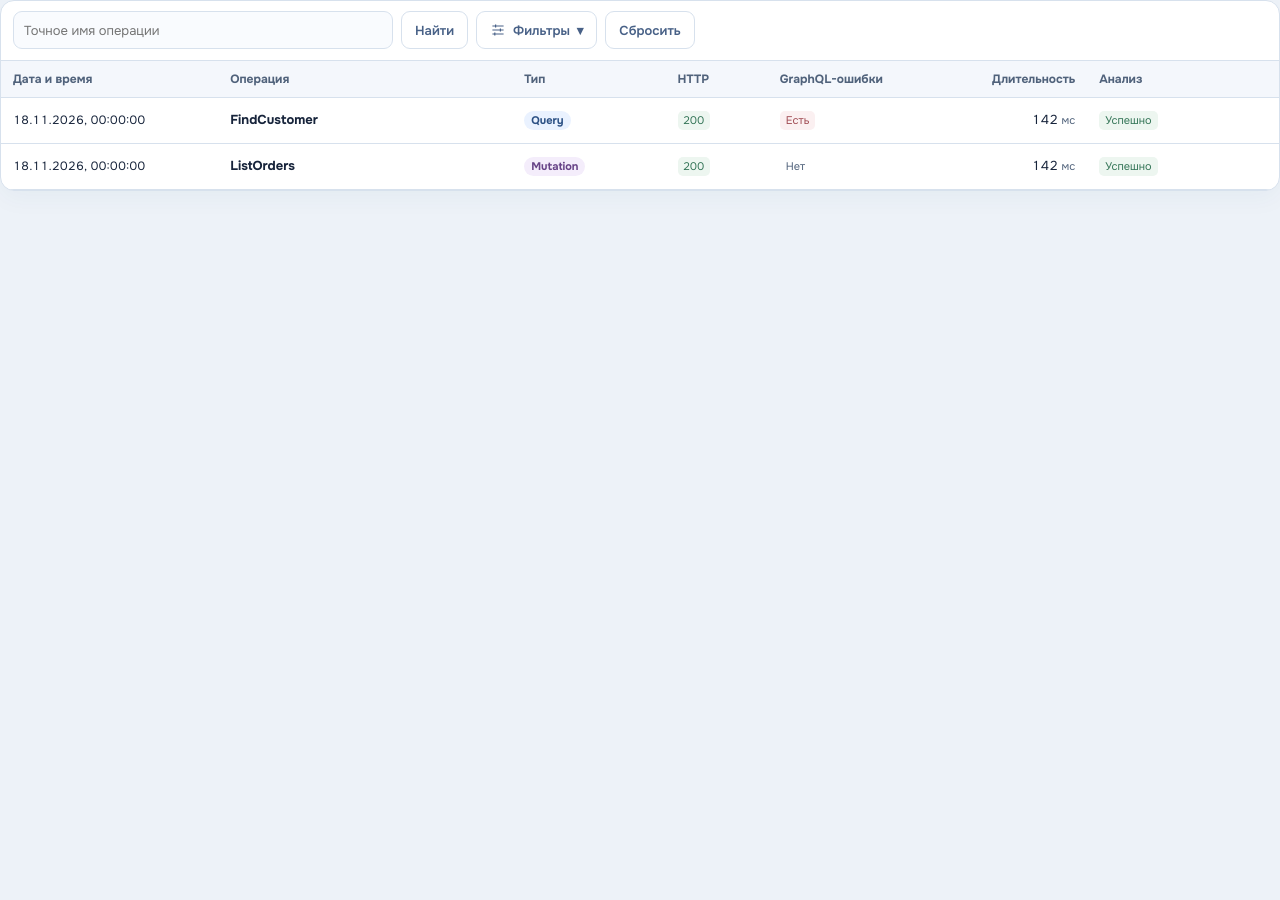
Test: resets to Overview on selection and keeps unknown counts, unavailable documents and absent links distinct
Click the button "FindCustomer" at [274, 120], box 230,111 -> 318,130
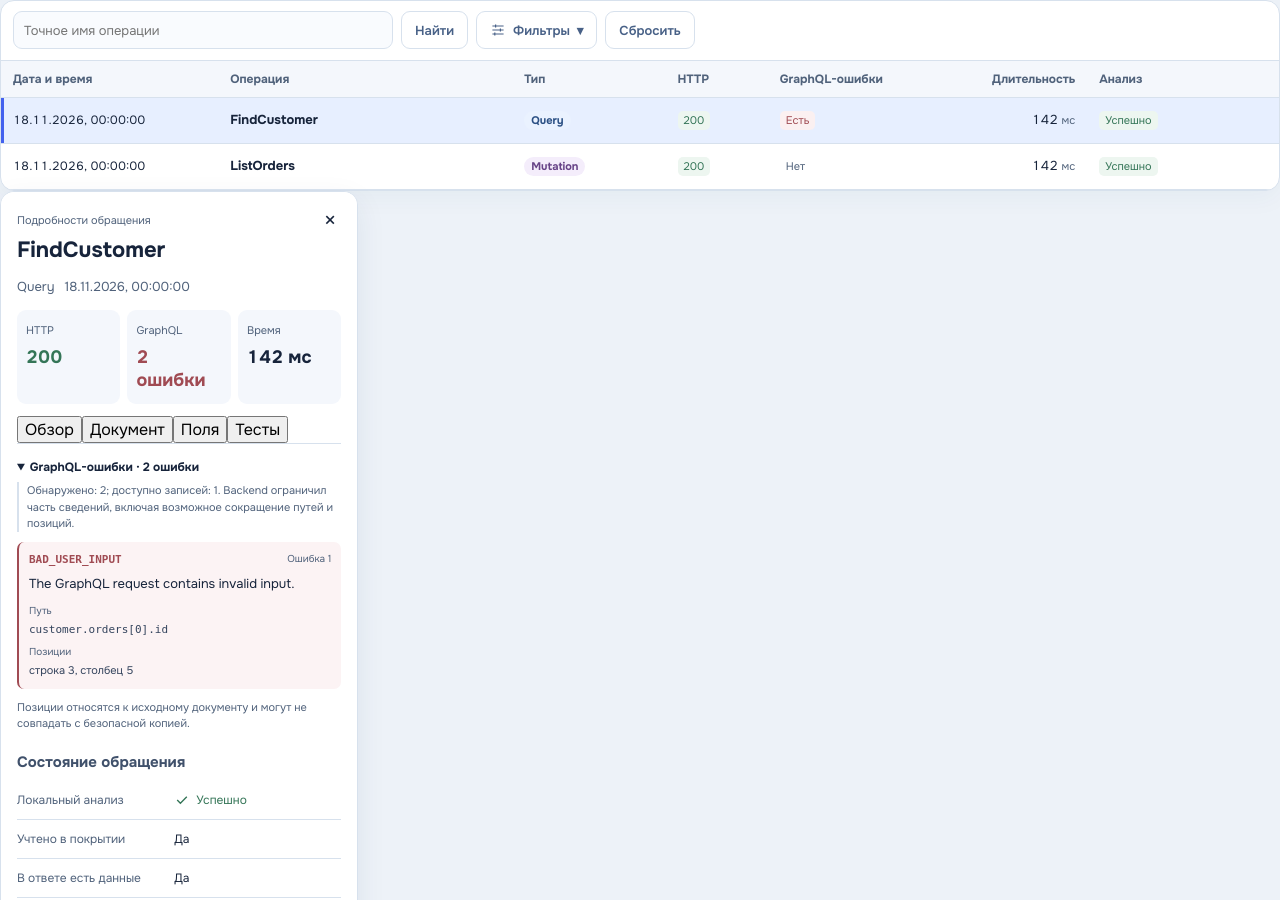
Click the tab "Документ" at [127, 430], box 82,416 -> 173,443
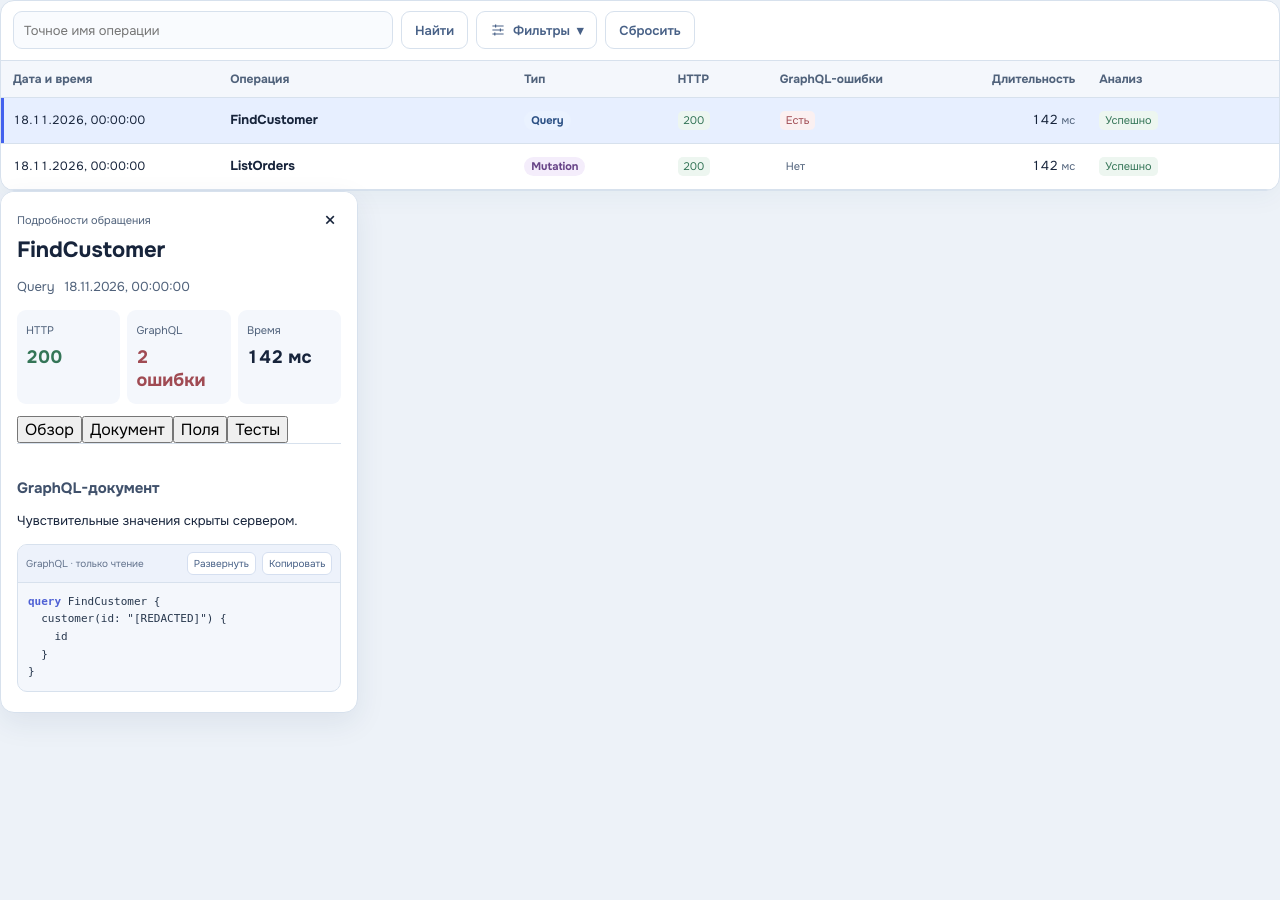
Click the button "ListOrders" at [263, 166], box 230,157 -> 295,176
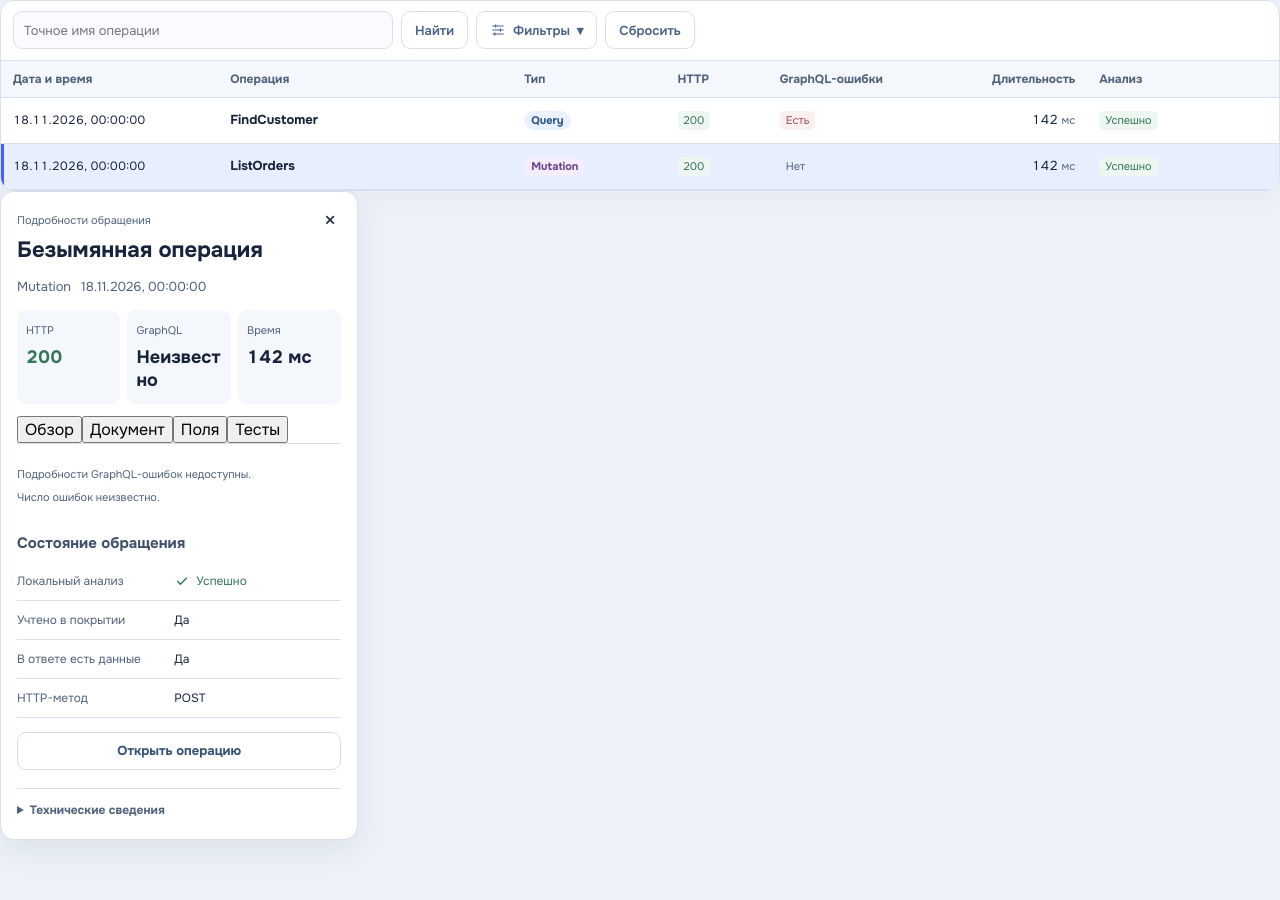
Now the tab "Обзор" is shown, box 17,416 -> 82,443
Now the heading "Безымянная операция" is shown, box 17,236 -> 263,264
Now the element with class "request-quick-facts" shows "Неизвестно", box 136,346 -> 220,391
Click the tab "Документ" at [127, 430], box 82,416 -> 173,443
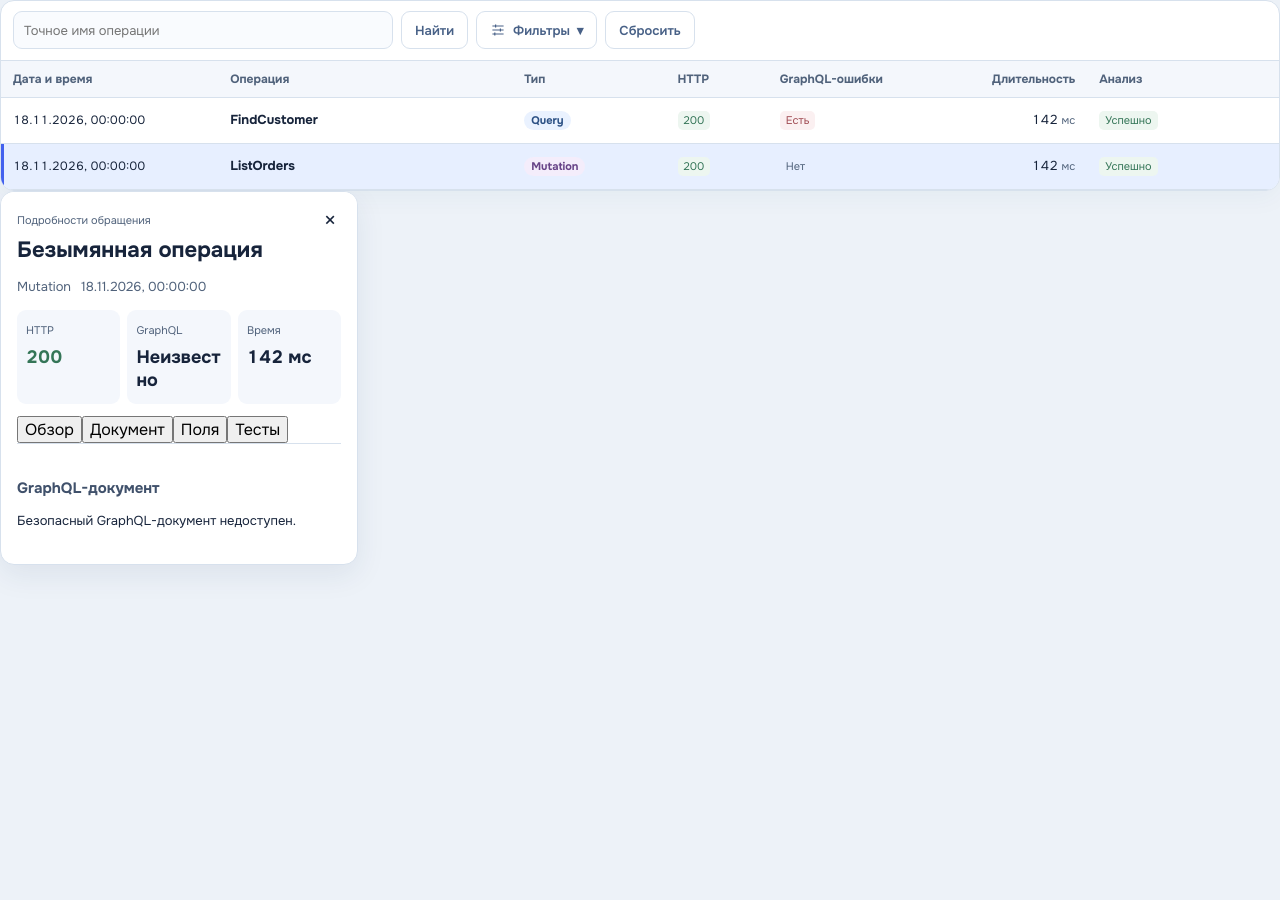
Now the element named "Подробности обращения" shows "Безопасный GraphQL-документ недоступен", box 17,512 -> 296,529
Click the tab "Тесты" at [258, 430], box 227,416 -> 288,443
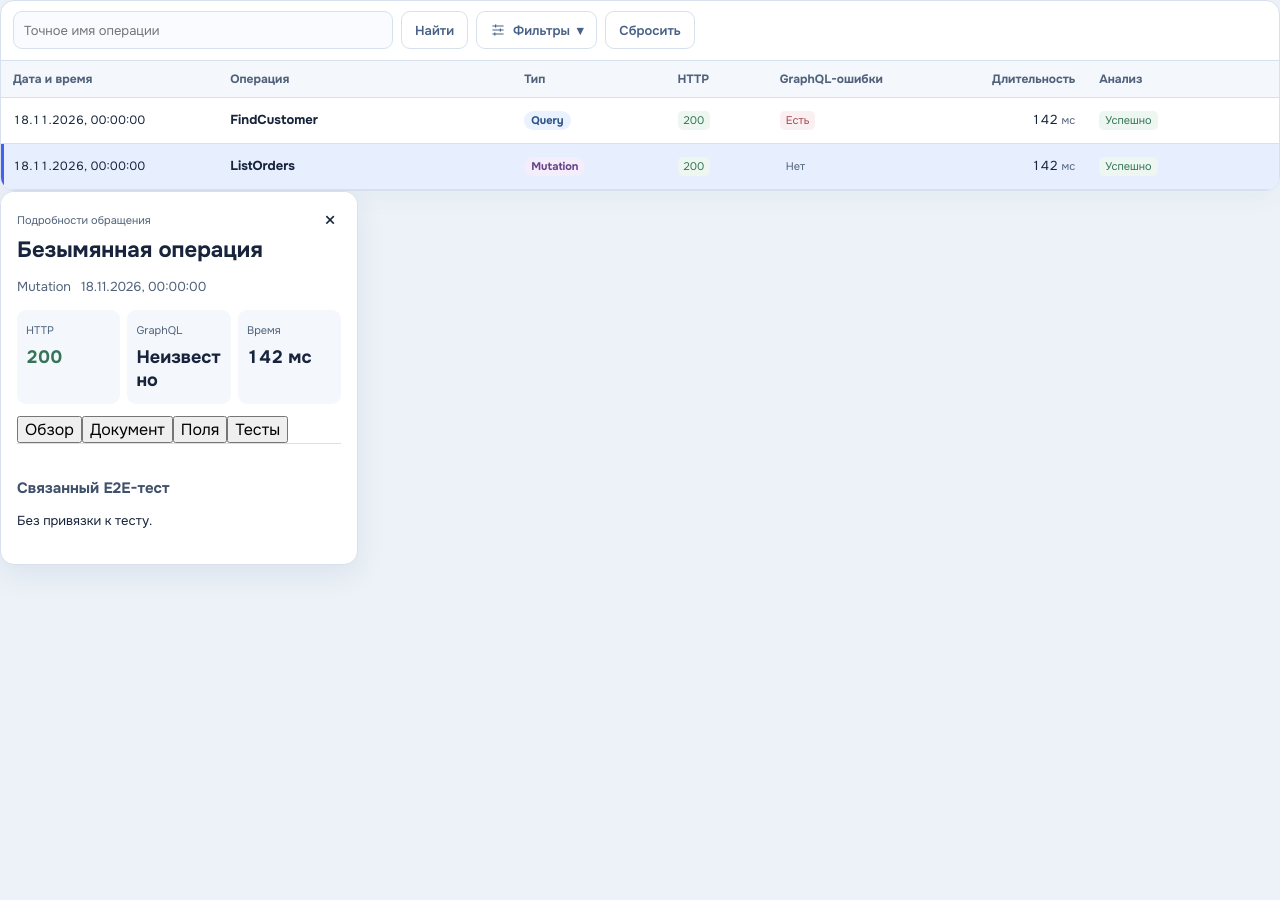
Now the element named "Подробности обращения" shows "Без привязки к тесту", box 17,512 -> 152,529
